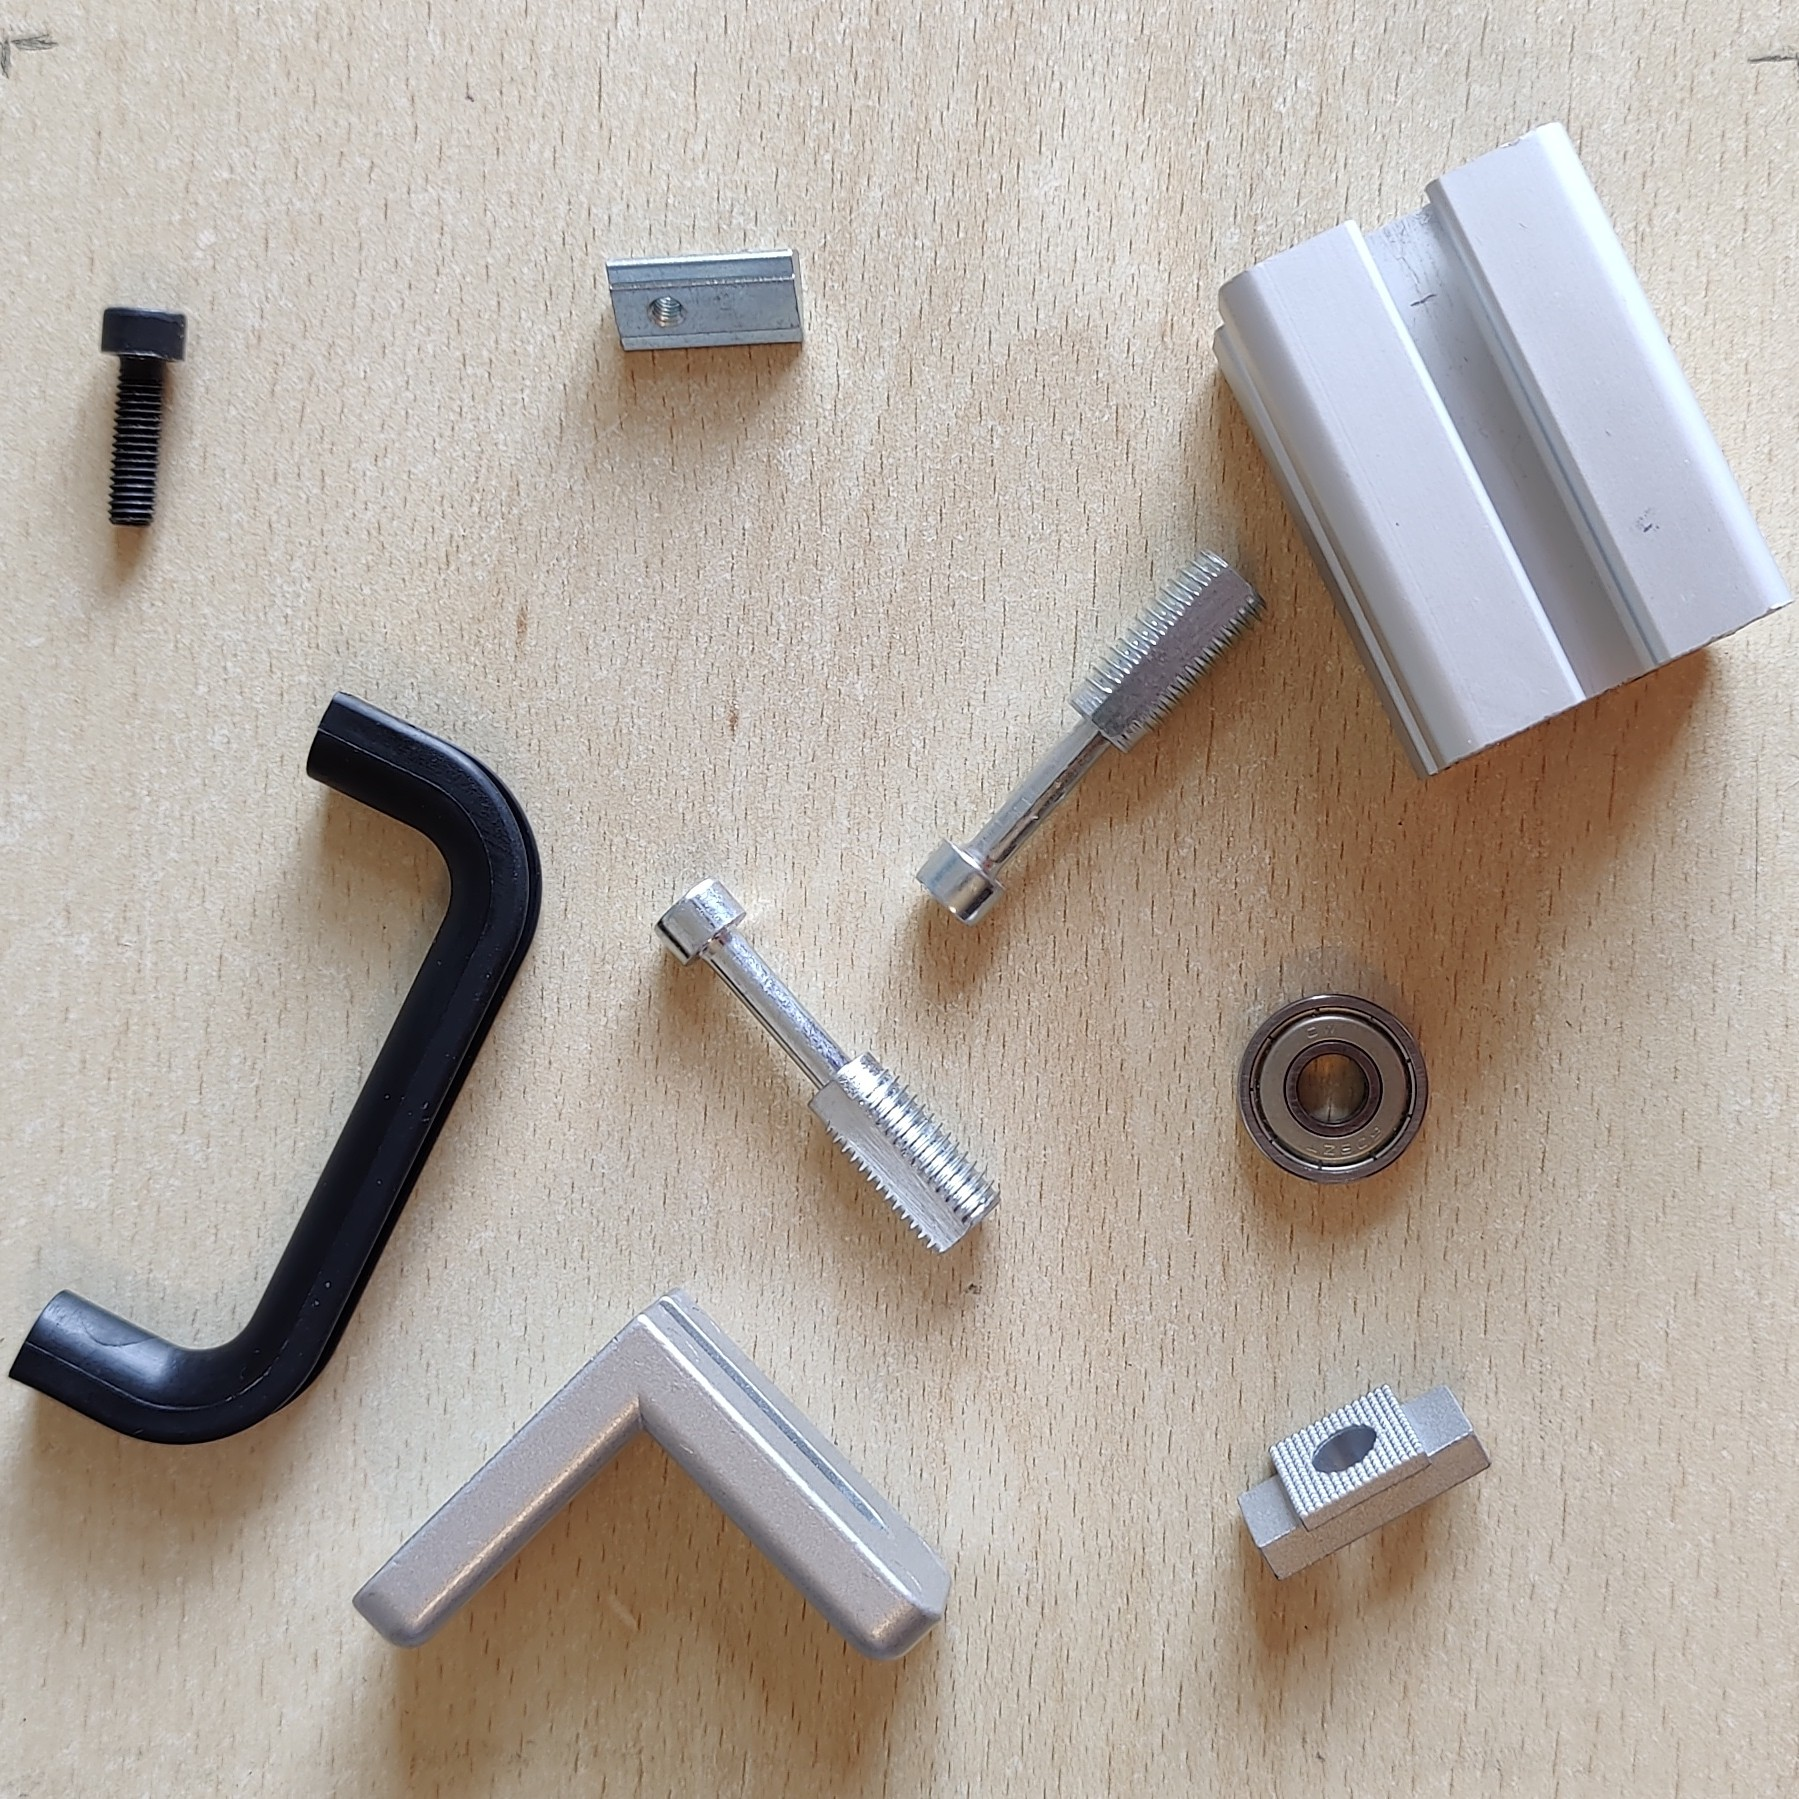Aluminium Extension: (1209, 119, 1799, 783)
Ball Bearing: (1234, 990, 1430, 1188)
Multiwinkel: (348, 1285, 956, 1666)
Pull Handle: (3, 685, 545, 1448)
Shoulder Socket Head Cap Screw: (913, 545, 1270, 931), (652, 875, 1003, 1259)
Socket Head Cap Screw: (96, 305, 189, 530)
T Nut Square: (1236, 1381, 1494, 1586)
T Spring Nut: (601, 249, 807, 356)
